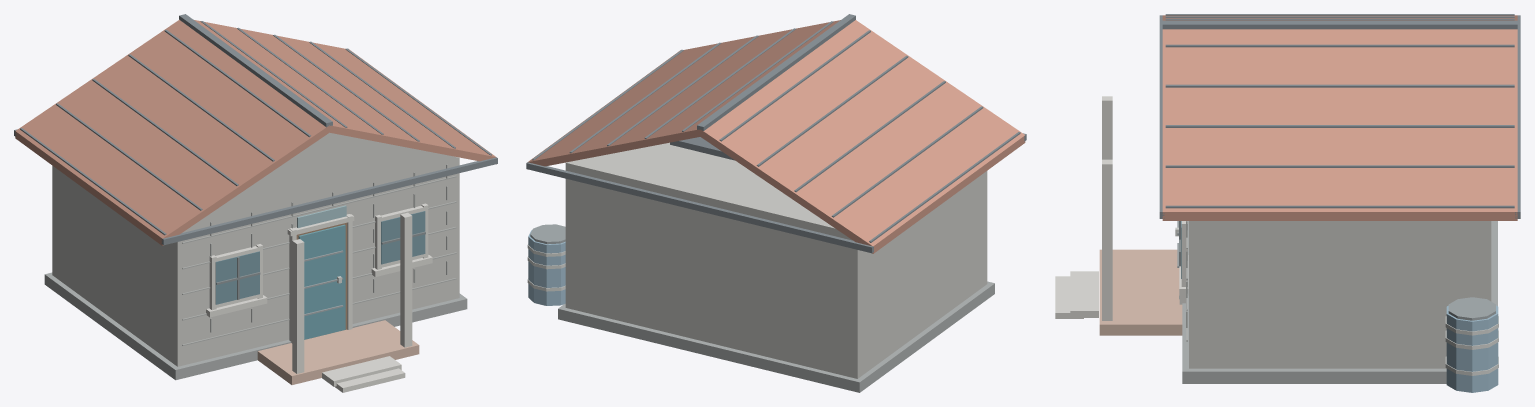
The model's file is 01_Concrete_Starter_Home.fbx.
3 views of the same model, side by side, from view 1: azimuth 30°, elevation 25°; view 2: azimuth 150°, elevation 25°; view 3: azimuth 270°, elevation 25° (orthographic). The views are drawn at different scales.
Visible parts, largest first — view 1: H01_002_MainWalls, H01_044_RustMetalRoof_LeftSlope, H01_045_RustMetalRoof_RightSlope, H01_043_FrontGable, H01_090_SmallEntryPorch_Slab, H01_001_FoundationSlab, H01_060_BlueSteelDoor_DoorLeaf, H01_046_RustMetalRoof_FrontFascia, H01_069_LeftBarredWindow_Pane, H01_100_SmallEntryPorch_Post2, H01_099_SmallEntryPorch_Post1, H01_048_RustMetalRoof_RidgeCap (+22 smaller); view 2: H01_002_MainWalls, H01_044_RustMetalRoof_LeftSlope, H01_045_RustMetalRoof_RightSlope, H01_001_FoundationSlab, H01_047_RustMetalRoof_BackFascia, H01_101_SideWaterDrum_Barrel, H01_048_RustMetalRoof_RidgeCap, H01_105_SideWaterDrum_Lid, H01_050_RustMetalRoof_Rib02, H01_052_RustMetalRoof_Rib04, H01_053_RustMetalRoof_Rib05, H01_049_RustMetalRoof_Rib01 (+7 smaller); view 3: H01_045_RustMetalRoof_RightSlope, H01_002_MainWalls, H01_090_SmallEntryPorch_Slab, H01_001_FoundationSlab, H01_048_RustMetalRoof_RidgeCap, H01_101_SideWaterDrum_Barrel, H01_100_SmallEntryPorch_Post2, H01_044_RustMetalRoof_LeftSlope, H01_055_RustMetalRoof_Rib07, H01_054_RustMetalRoof_Rib06, H01_058_RustMetalRoof_Rib10, H01_091_SmallEntryPorch_Step1 (+10 smaller).
Part boxes in pixels (x1,y1,x2,y2): H01_002_MainWalls: [52, 156, 459, 366]; H01_044_RustMetalRoof_LeftSlope: [15, 20, 329, 245]; H01_045_RustMetalRoof_RightSlope: [194, 20, 496, 164]; H01_043_FrontGable: [198, 132, 459, 222]; H01_090_SmallEntryPorch_Slab: [257, 320, 419, 384]; H01_001_FoundationSlab: [44, 272, 467, 380]; H01_060_BlueSteelDoor_DoorLeaf: [298, 224, 345, 339]; H01_046_RustMetalRoof_FrontFascia: [161, 157, 497, 245]; H01_069_LeftBarredWindow_Pane: [215, 251, 259, 304]; H01_100_SmallEntryPorch_Post2: [400, 212, 412, 347]; H01_099_SmallEntryPorch_Post1: [292, 239, 304, 373]; H01_048_RustMetalRoof_RidgeCap: [179, 14, 332, 127]; H01_002_MainWalls: [565, 142, 987, 378]; H01_044_RustMetalRoof_LeftSlope: [700, 20, 1025, 253]; H01_045_RustMetalRoof_RightSlope: [528, 20, 840, 166]; H01_001_FoundationSlab: [558, 281, 994, 392]; H01_047_RustMetalRoof_BackFascia: [526, 162, 873, 253]; H01_101_SideWaterDrum_Barrel: [528, 230, 565, 305]; H01_048_RustMetalRoof_RidgeCap: [697, 14, 855, 130]; H01_105_SideWaterDrum_Lid: [530, 224, 565, 244]; H01_050_RustMetalRoof_Rib02: [831, 106, 983, 217]; H01_052_RustMetalRoof_Rib04: [756, 55, 908, 166]; H01_053_RustMetalRoof_Rib05: [719, 30, 870, 141]; H01_049_RustMetalRoof_Rib01: [869, 132, 1020, 242]; H01_045_RustMetalRoof_RightSlope: [1162, 29, 1517, 220]; H01_002_MainWalls: [1189, 221, 1491, 368]; H01_090_SmallEntryPorch_Slab: [1099, 249, 1182, 335]; H01_001_FoundationSlab: [1182, 221, 1497, 383]; H01_048_RustMetalRoof_RidgeCap: [1162, 20, 1517, 29]; H01_101_SideWaterDrum_Barrel: [1446, 305, 1498, 392]; H01_100_SmallEntryPorch_Post2: [1102, 159, 1112, 320]; H01_044_RustMetalRoof_LeftSlope: [1162, 15, 1517, 20]; H01_055_RustMetalRoof_Rib07: [1165, 84, 1514, 87]; H01_054_RustMetalRoof_Rib06: [1165, 44, 1514, 47]; H01_058_RustMetalRoof_Rib10: [1165, 205, 1514, 208]; H01_091_SmallEntryPorch_Step1: [1070, 271, 1098, 317].
Bounding box in the file's own units: 645 × 406 × 616.
